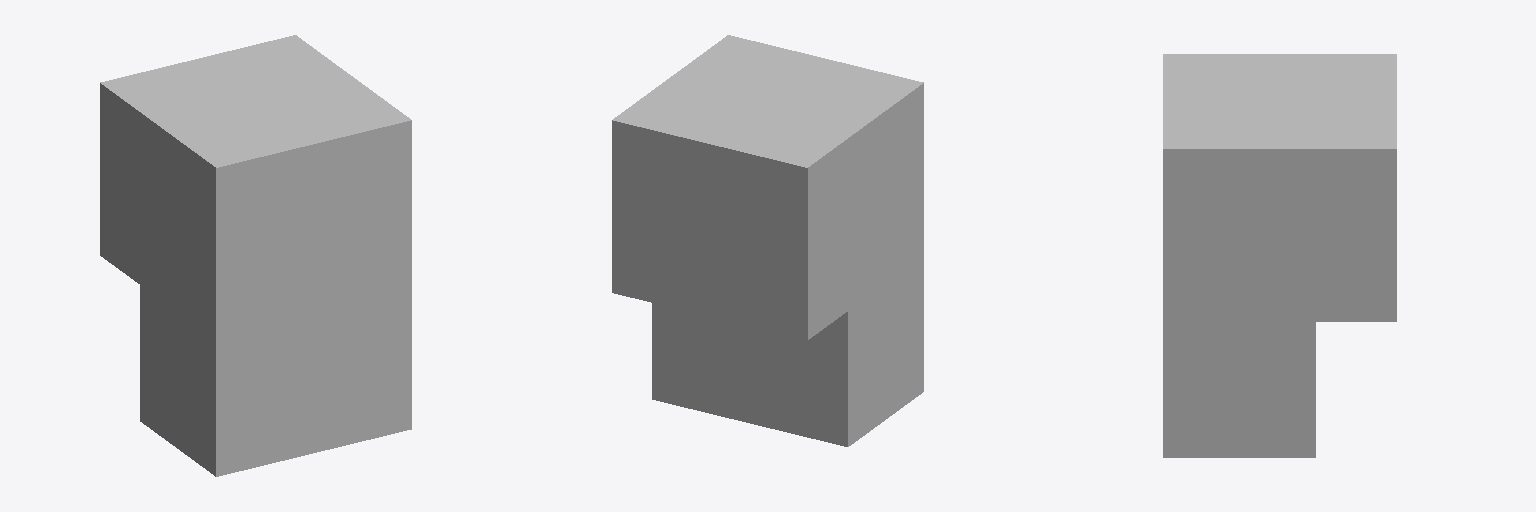
The model's file is torso.obj.
3 renders of one model, left to right at view 1: azimuth 30°, elevation 25°; view 2: azimuth 150°, elevation 25°; view 3: azimuth 270°, elevation 25°, orthographic.
Parts seen in each view (by area): view 1: Cube_Cube.001; view 2: Cube_Cube.001; view 3: Cube_Cube.001.
Part boxes in pixels (left/top/right/bottom): Cube_Cube.001: left=100, top=35, right=411, bottom=476; Cube_Cube.001: left=612, top=35, right=923, bottom=446; Cube_Cube.001: left=1163, top=54, right=1396, bottom=457.
Size of the model in its own units: 0.9156 by 1.38 by 0.944.